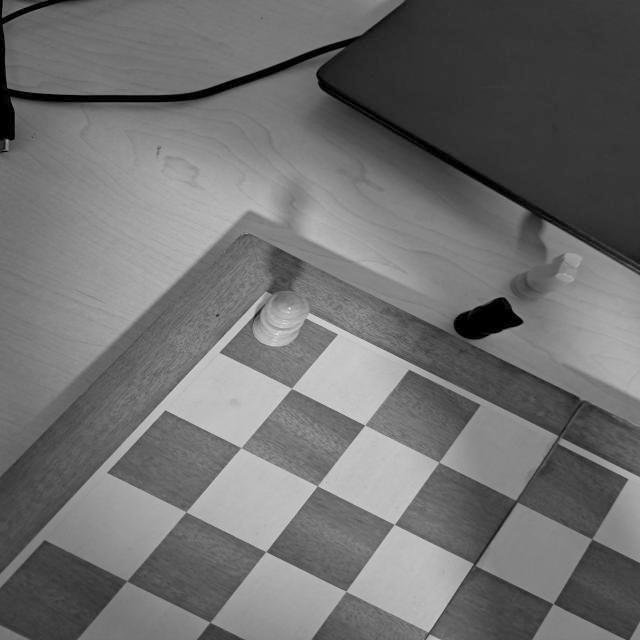chess-table-corners: (245, 280, 317, 328)
